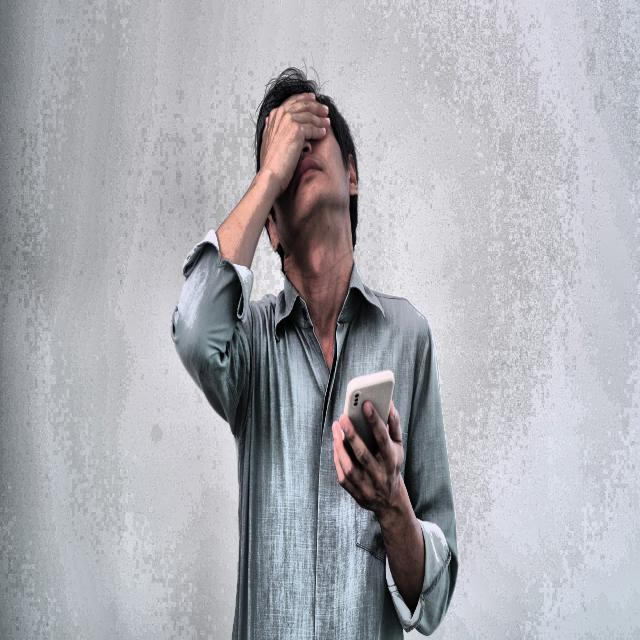Phone: (338, 366, 399, 460)
